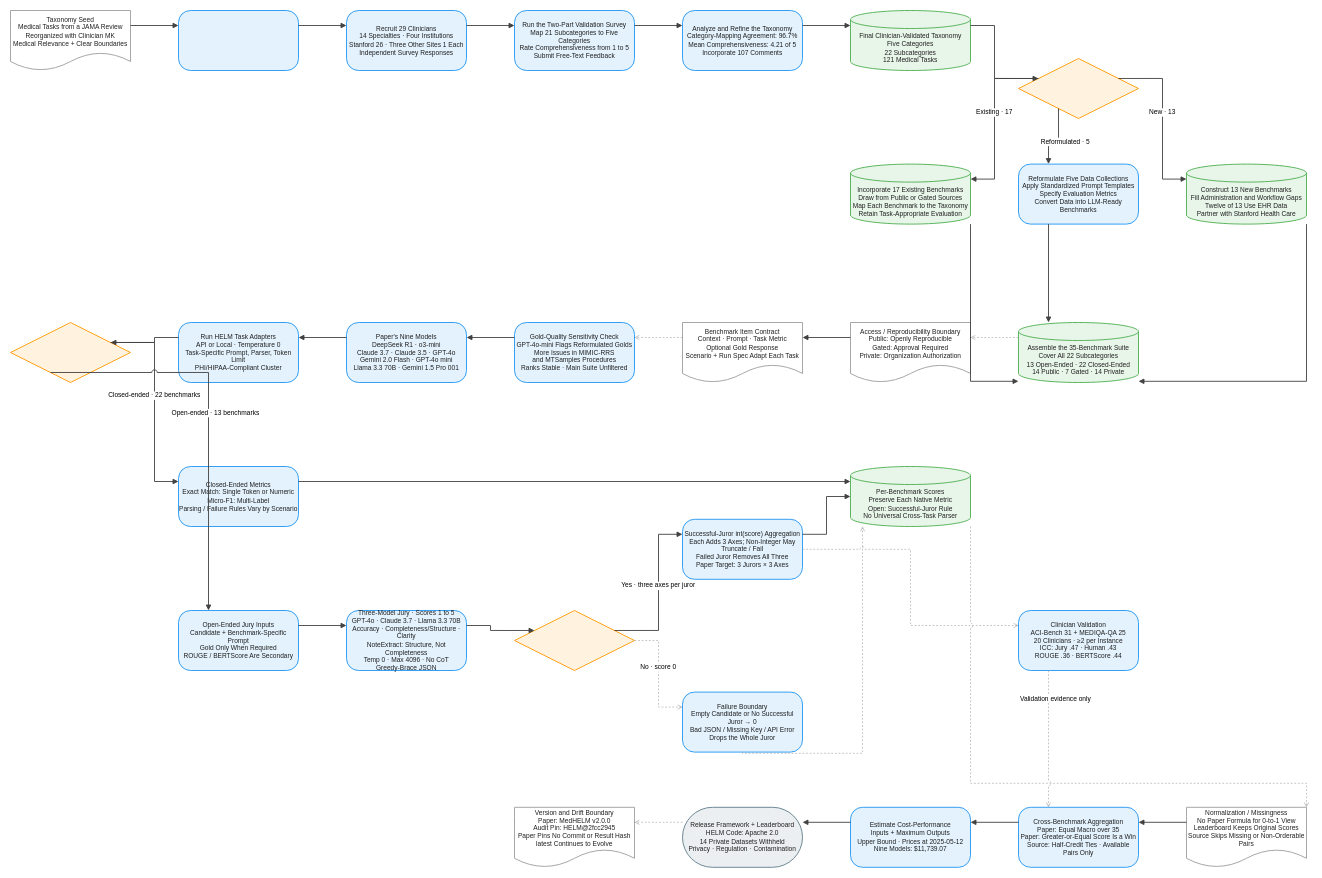
The diagram is 1322 pixels wide and 878 high, and some of its shapes have lost their labels. Here are the shapes that lost their labels. From the top down, the centre of each, then its label:
point 238,40: Draft the Initial Hierarchy Five Categories 21 Subcategories 98 Candidate Tasks
point 1078,88: Benchmark Source Type? Existing · Reformulated · New
point 70,352: Output Type? Closed-Ended or Open-Ended
point 574,640: Any Successful Juror Annotation?
